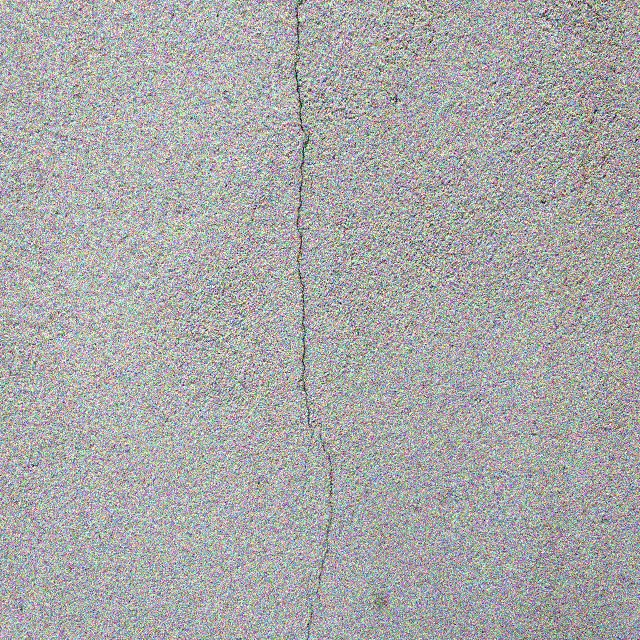SurfaceCrack: (250, 1, 375, 640)
